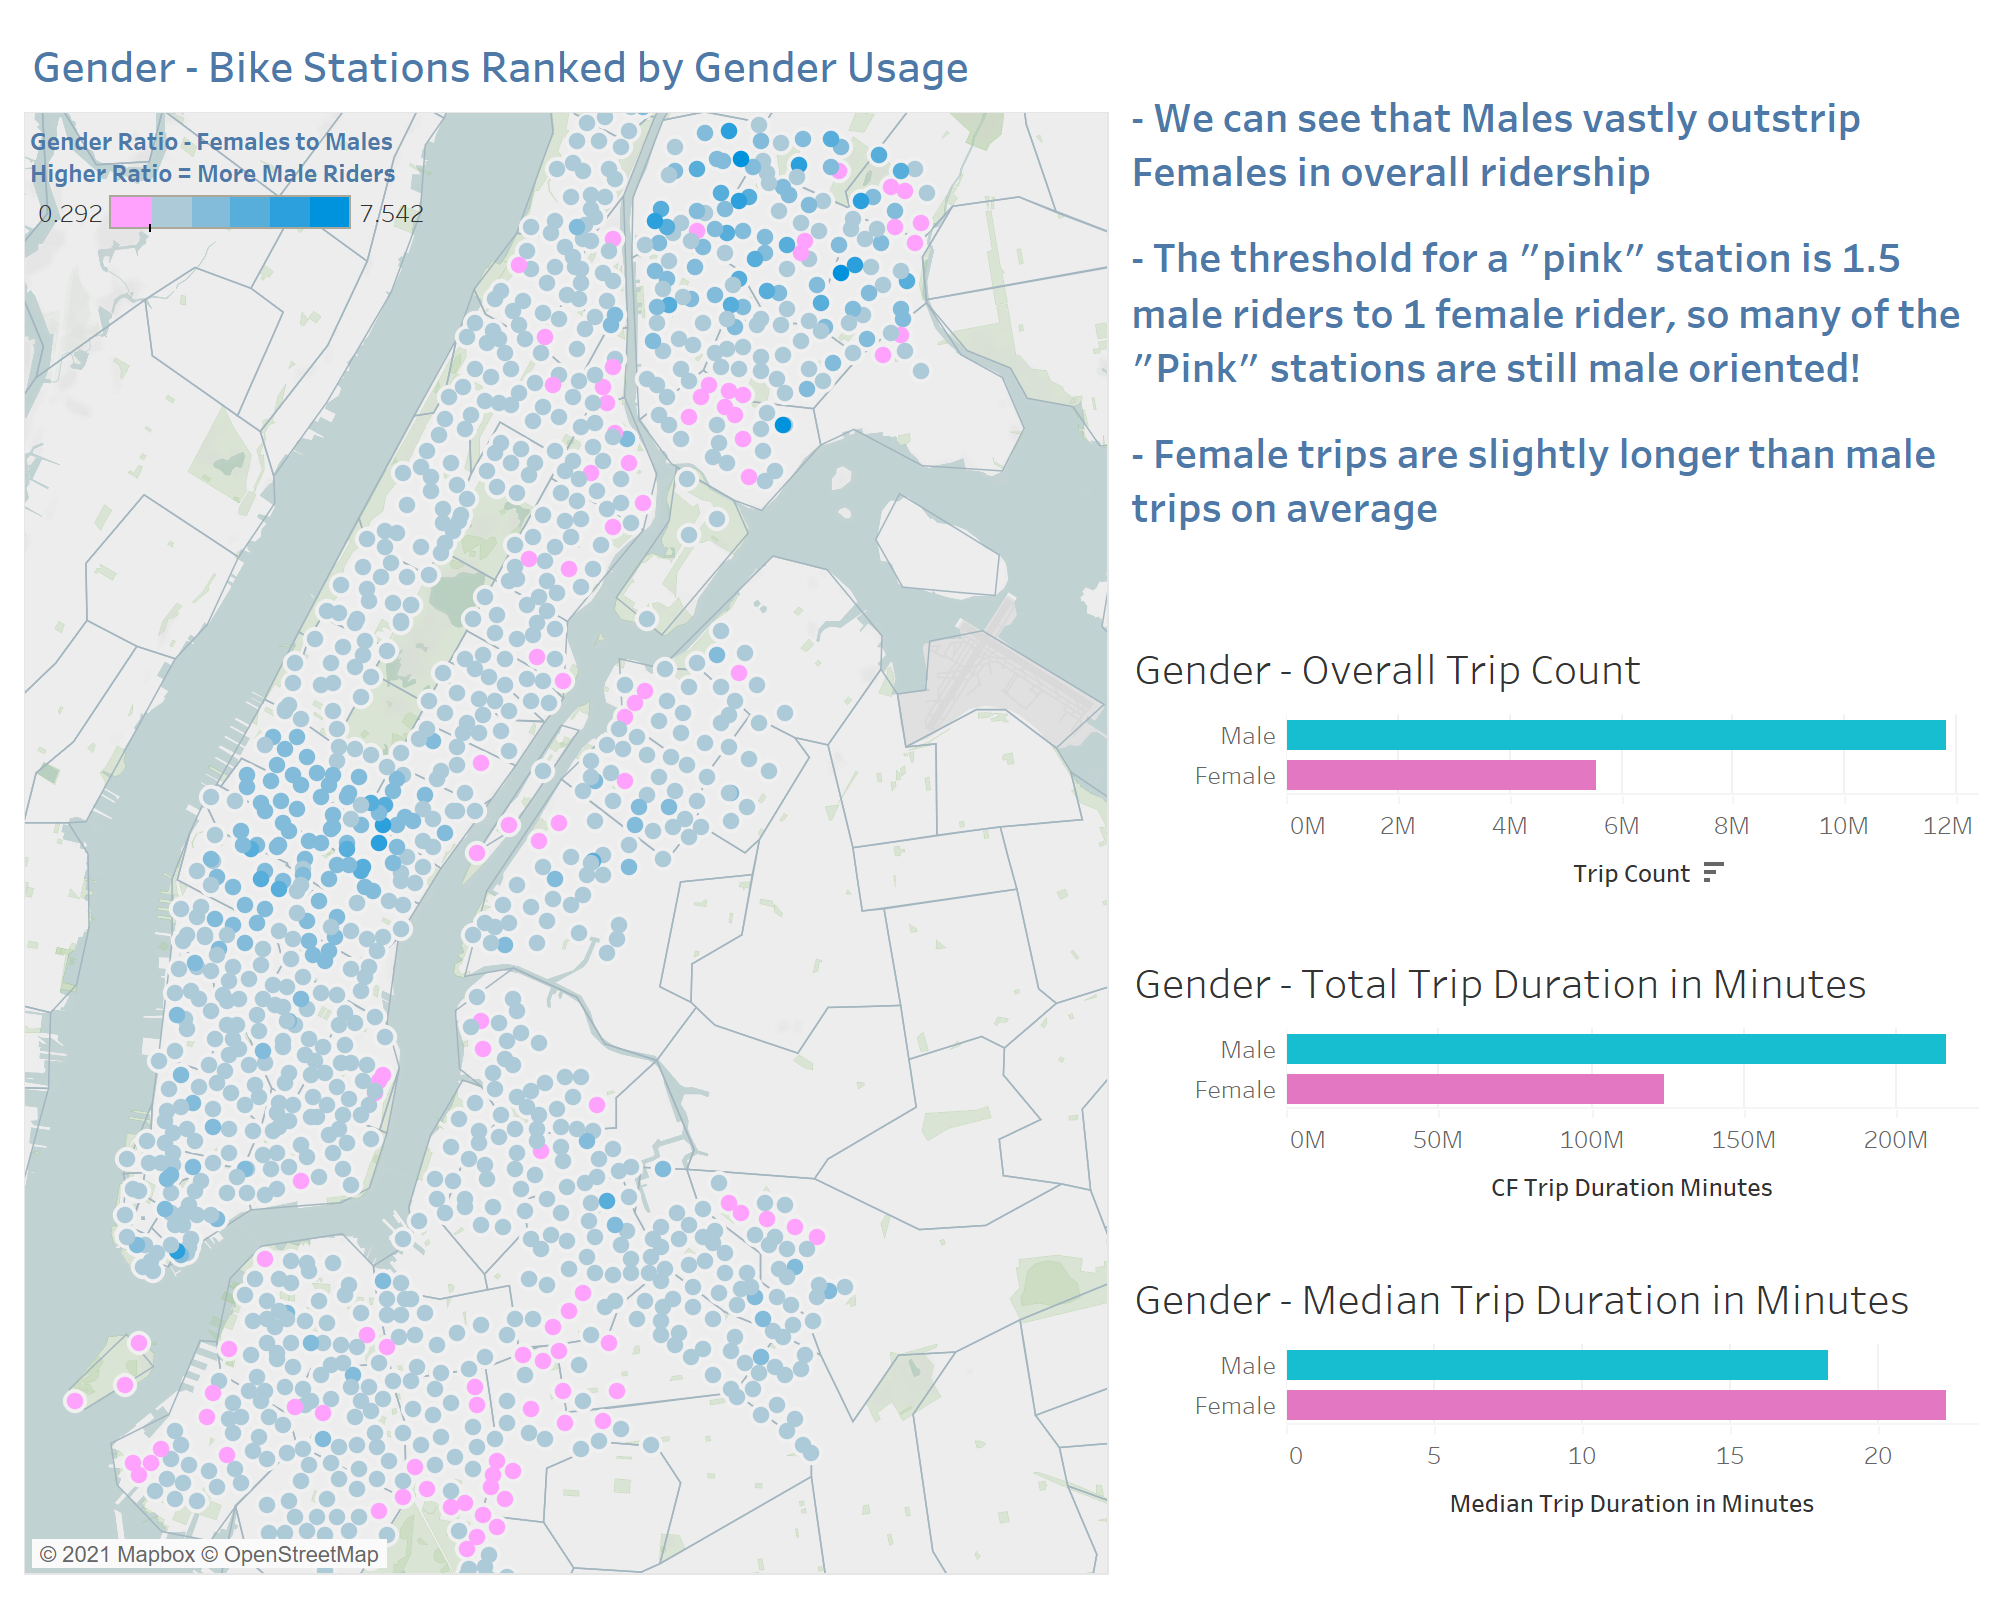

What the dashboard file says about the page in this screenshot:
{"tool":"tableau","page":{"name":"Gender Analysis","canvas":[1000,800],"ordinal":1},"visuals":[{"type":"worksheet","title":"Gender - Bike Stations Ranked by Gender Usage","mark":"Circle","rows":["Start Station Latitude"],"cols":["Start Station Longitude"],"box":[8,8,550.5,784]},{"type":"text","box":[558.5,8,433.5,302]},{"type":"legend","title":"Gender - Bike Stations Ranked by Gender Usage","param":"[federated.03l54cg1rz8a6t15xwi4j1t894sv].[sum:Calculation_89509105869520901:qk]","box":[15,58,202,77]},{"type":"worksheet","title":"Gender - Overall Trip Count","mark":"Automatic","rows":["Calculation_89509105848393730"],"cols":["Start Station Id"],"box":[558.5,310,433.5,157]},{"type":"worksheet","title":"Gender - Total Trip Duration in Minutes","mark":"Automatic","rows":["Gender"],"cols":["Calculation_89509104949153792"],"box":[558.5,467,433.5,158]},{"type":"worksheet","title":"Gender - Median Trip Duration in Minutes","mark":"Automatic","rows":["Gender"],"cols":["Calculation_89509104949153792"],"box":[558.5,625,433.5,167]}]}

Visuals, with their boxes in screenshot pixels (x1, y1, x2, y2), scaled from the page's 1000x800 canvas onto the 2000x1600 screenshot:
"Gender - Bike Stations Ranked by Gender Usage" worksheet (Circle marks): 16,16,1117,1584
text: 1117,16,1984,620
"Gender - Bike Stations Ranked by Gender Usage" legend: 30,116,434,270
"Gender - Overall Trip Count" worksheet: 1117,620,1984,934
"Gender - Total Trip Duration in Minutes" worksheet: 1117,934,1984,1250
"Gender - Median Trip Duration in Minutes" worksheet: 1117,1250,1984,1584
